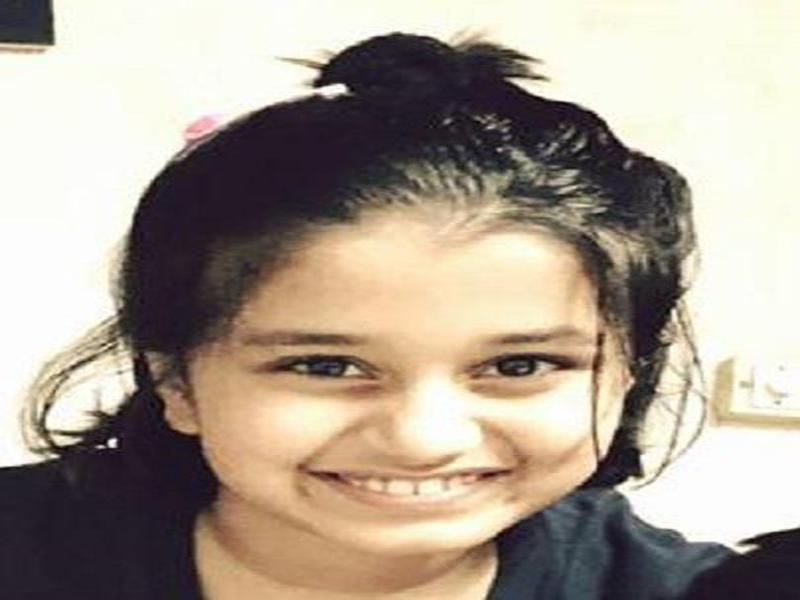without_mask: (183, 239, 622, 554)
